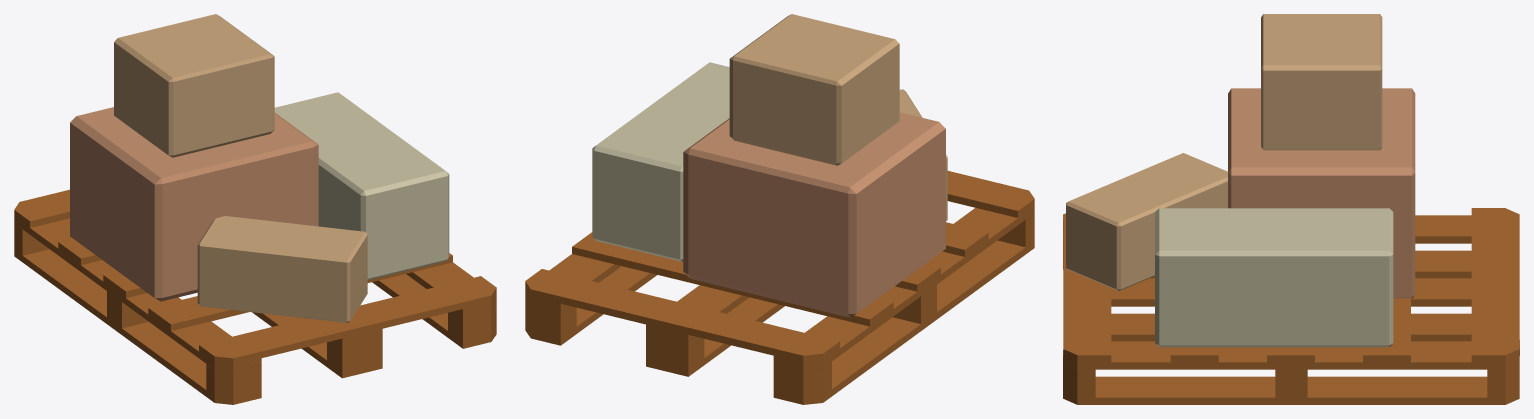
The model's file is Prop_Pallet_Small_WB_B.fbx.
3 views of the same model, side by side, from view 1: azimuth 30°, elevation 25°; view 2: azimuth 150°, elevation 25°; view 3: azimuth 270°, elevation 25° (orthographic). The views are drawn at different scales.
Parts seen in each view (by area): view 1: Prop_Pallet_Small_WB_B; view 2: Prop_Pallet_Small_WB_B; view 3: Prop_Pallet_Small_WB_B.
Boxes of the visible parts, left/top/right/bottom form: Prop_Pallet_Small_WB_B: left=14, top=14, right=496, bottom=404; Prop_Pallet_Small_WB_B: left=525, top=14, right=1034, bottom=404; Prop_Pallet_Small_WB_B: left=1063, top=14, right=1519, bottom=404.
Bounding box in the file's own units: 111 × 84.28 × 71.47.
